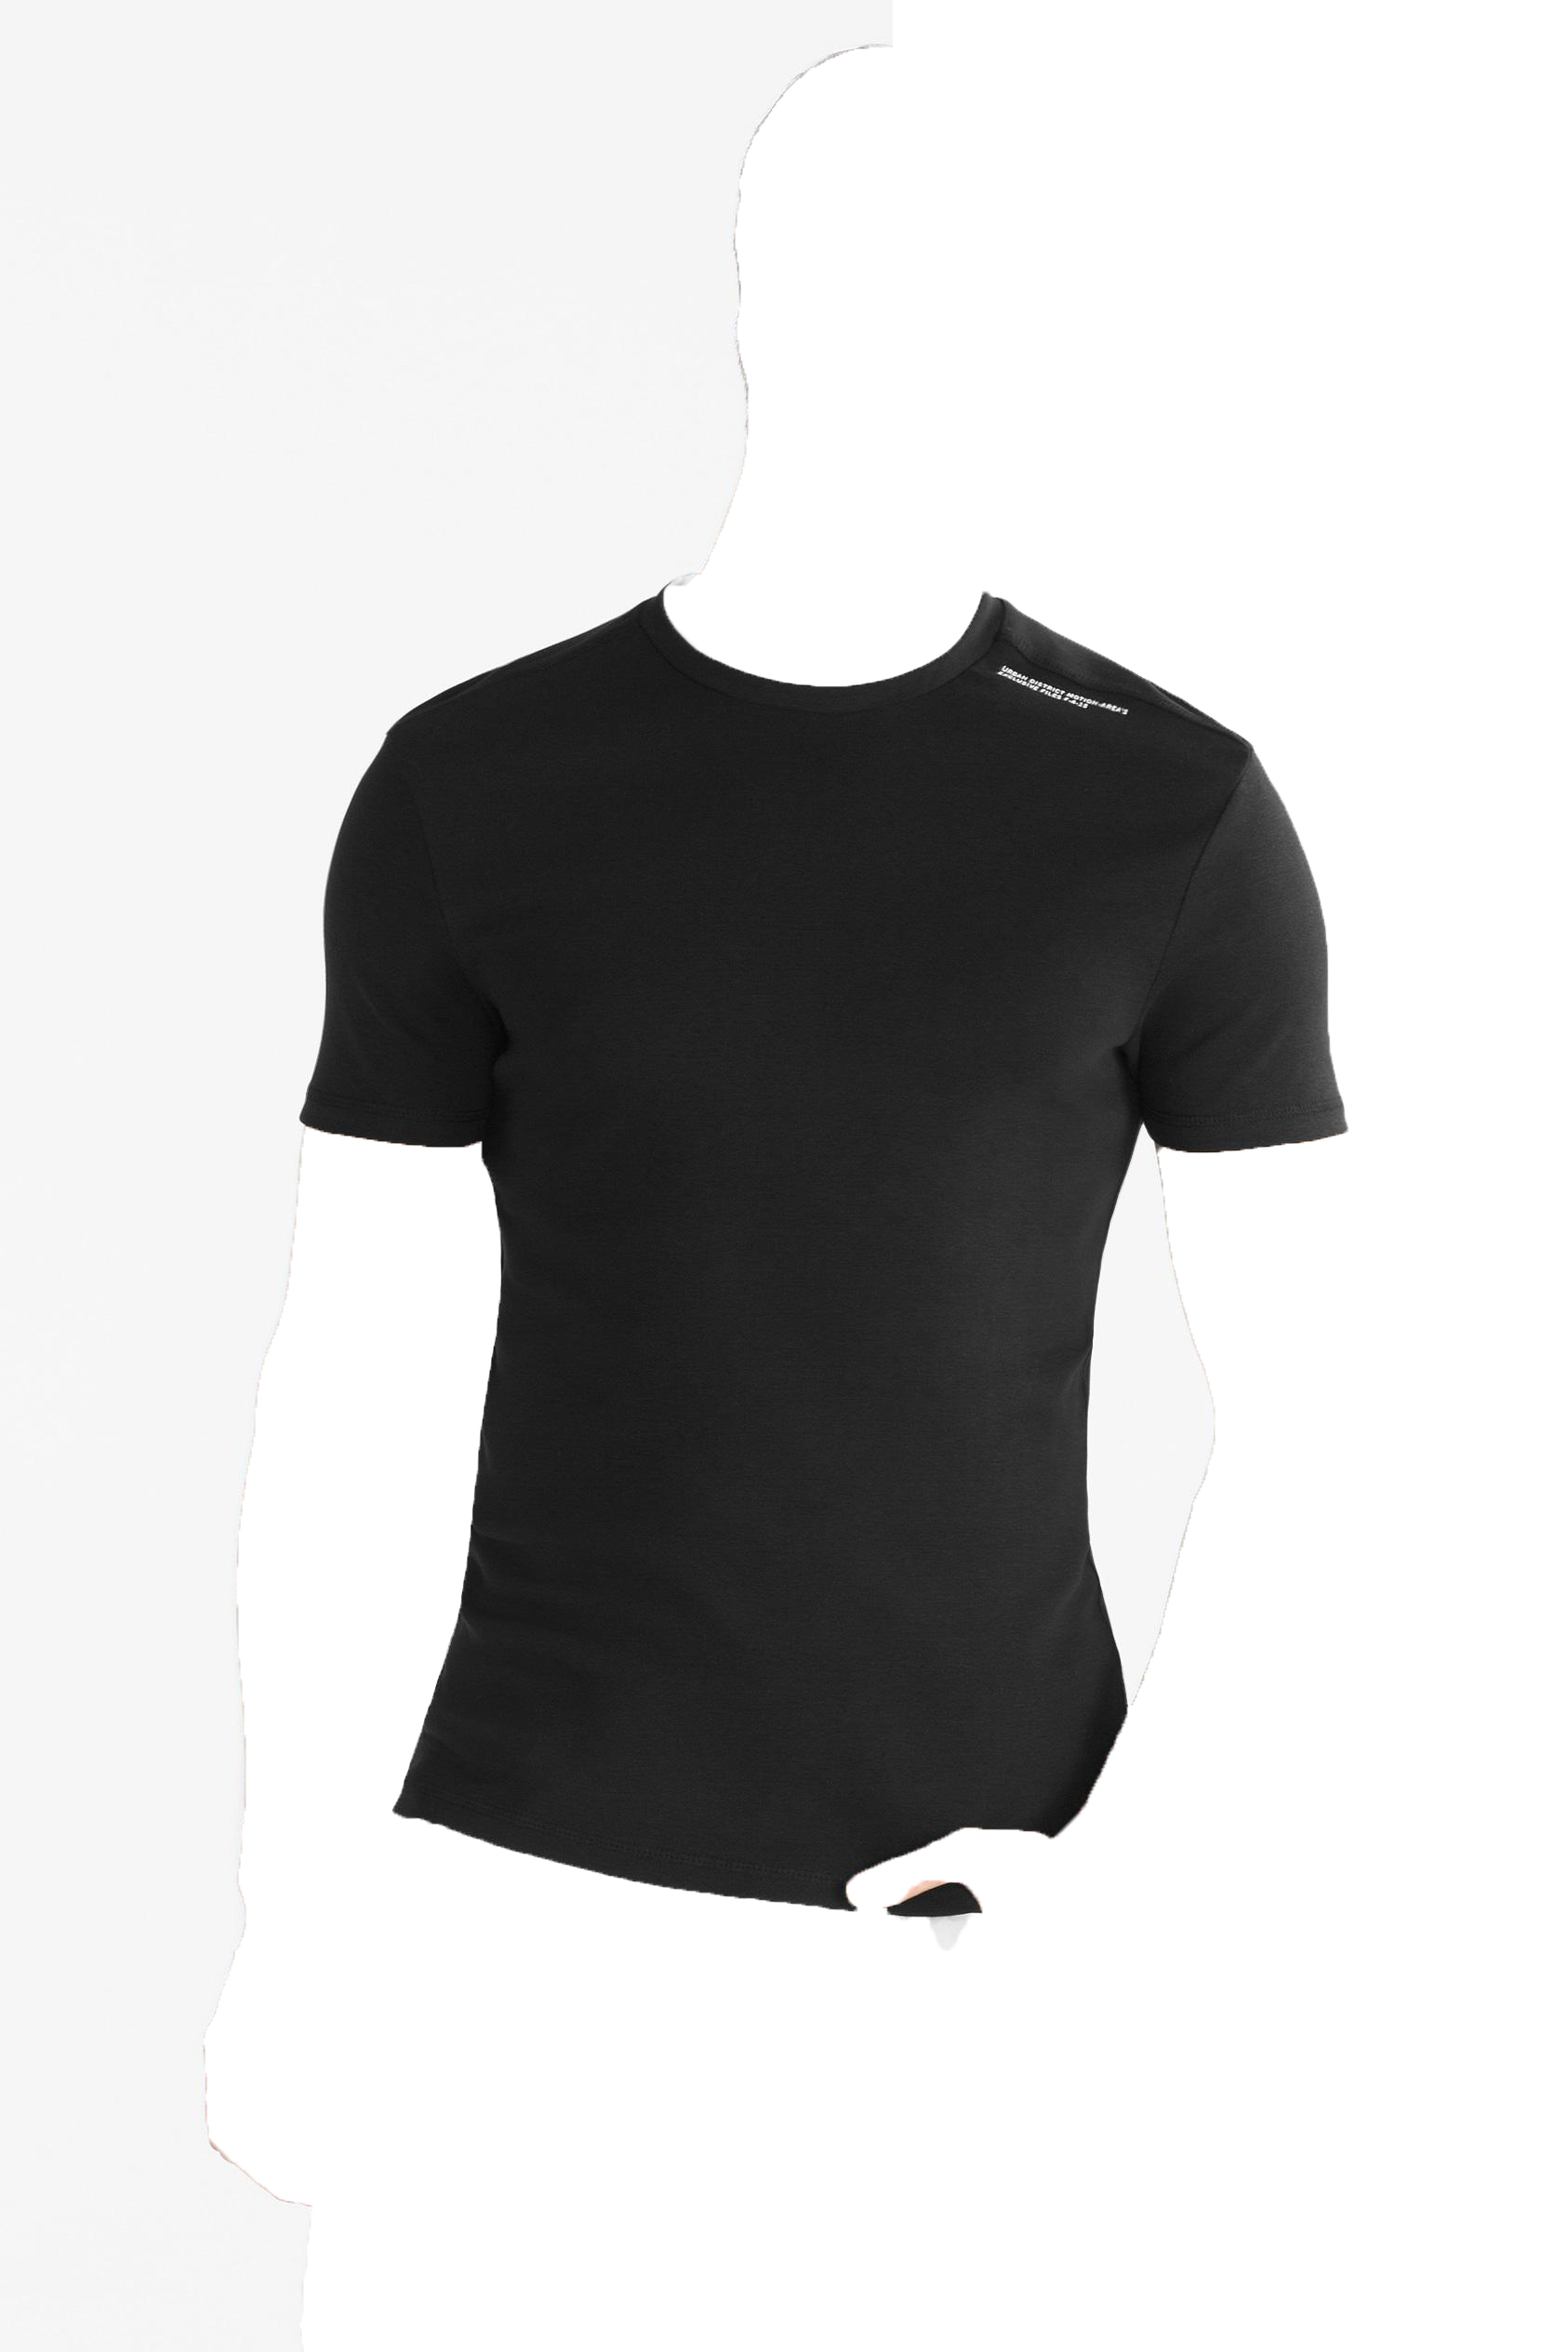teeshirt: (276, 574, 1382, 2023)
